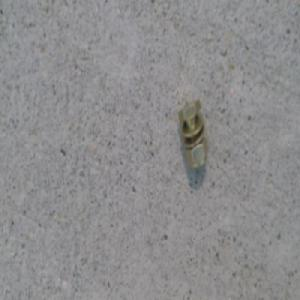BoltNutSet: (176, 97, 205, 170)
